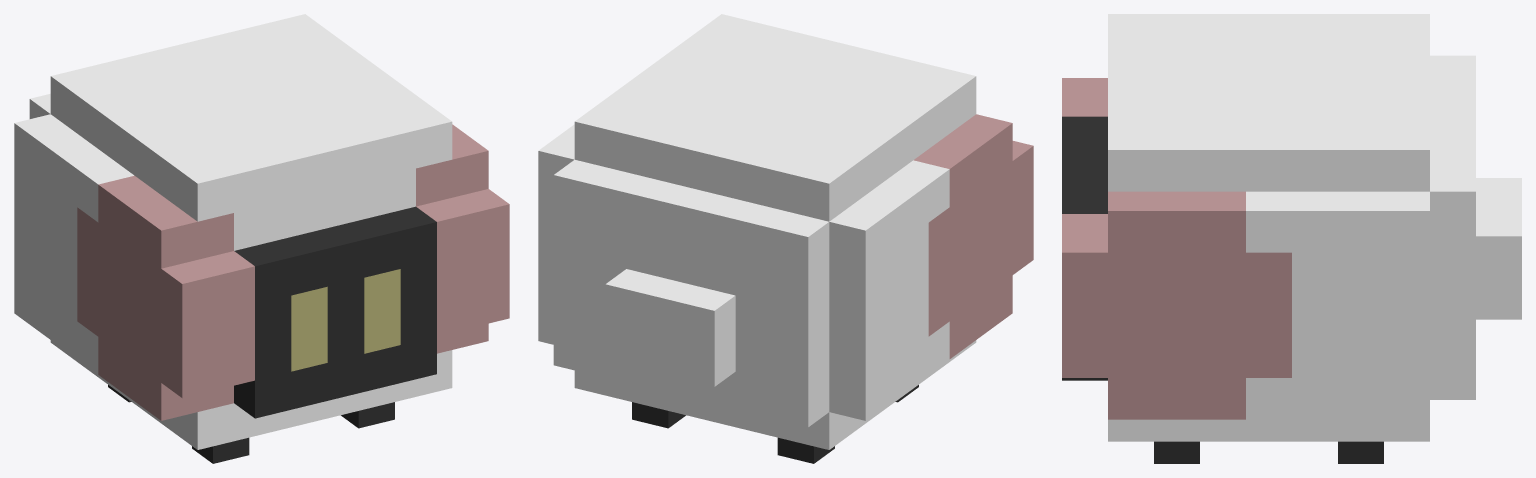
The model's file is seep_a.obj.
The picture shows the model from 3 angles, left to right: view 1: azimuth 30°, elevation 25°; view 2: azimuth 150°, elevation 25°; view 3: azimuth 270°, elevation 25°; orthographic projection. The views are drawn at different scales.
Size of the model in its own units: 0.9 by 0.8 by 1.
1 material, 1 textured.
